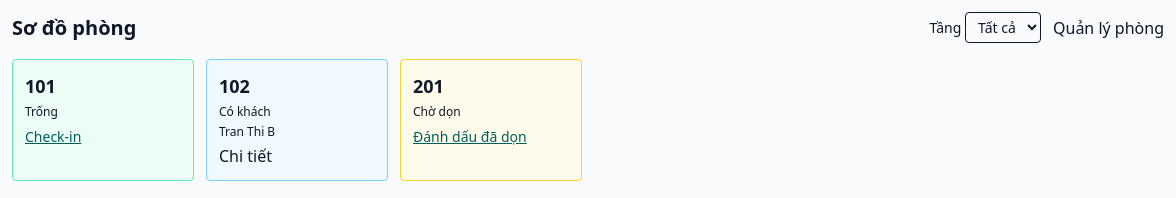
Scenario: RoomBoard › marks a cleaned room vacant and reloads
Click the button "Đánh dấu đã dọn". click: [470, 137]
box: [413,127,527,147]
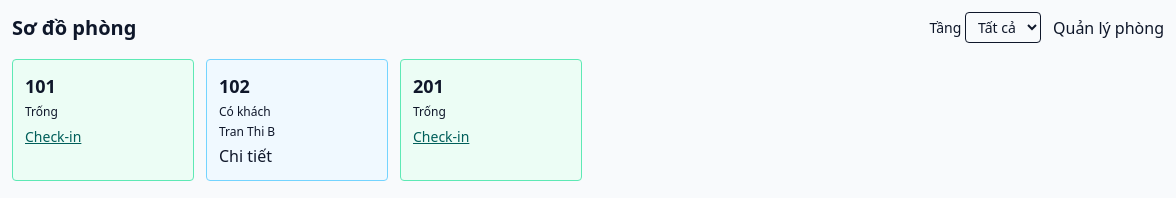
Now the list item with test id "room-201" has attribute data-status="VACANT", box [400,59,582,181]
